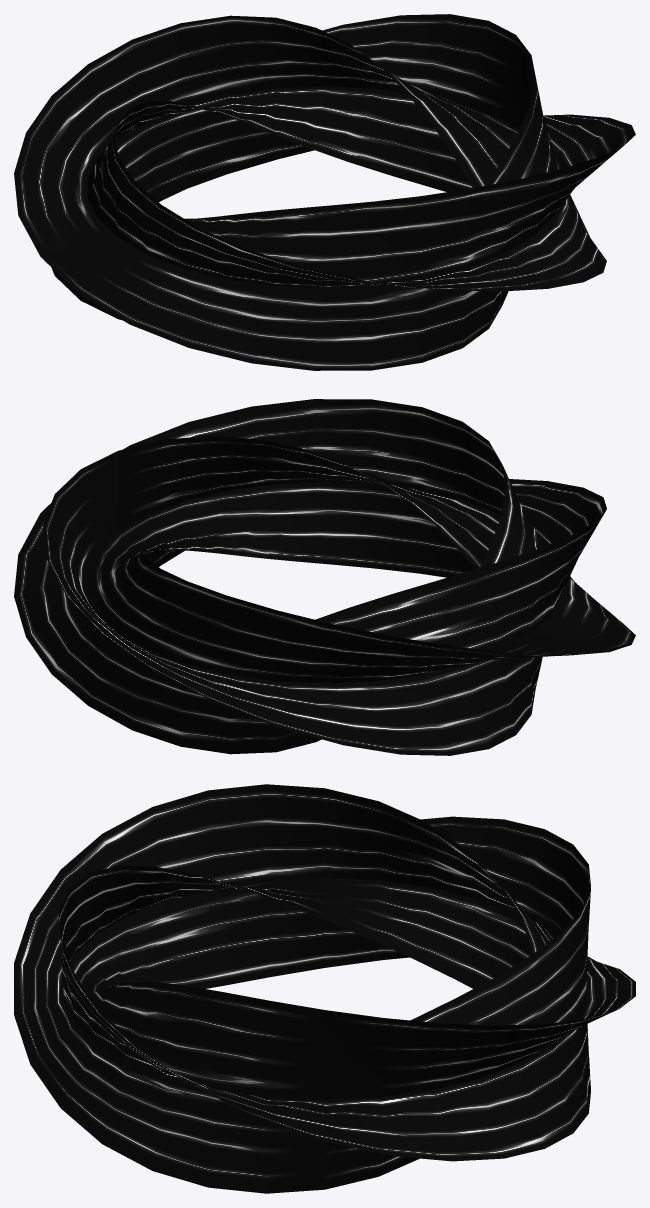
3 renders of one model, top to bottom at view 1: azimuth 30°, elevation 25°; view 2: azimuth 150°, elevation 25°; view 3: azimuth 270°, elevation 25°, orthographic. The views are drawn at different scales.
Visible parts, largest first — view 1: Cylinder_007; view 2: Cylinder_007; view 3: Cylinder_007.
Part boxes in pixels (x1,y1,x2,y2): Cylinder_007: [14, 14, 635, 370]; Cylinder_007: [14, 399, 635, 755]; Cylinder_007: [14, 784, 635, 1193].
Bounding box in the file's own units: 149 × 40.73 × 128.
Materials: 1 (1 with a texture image).
